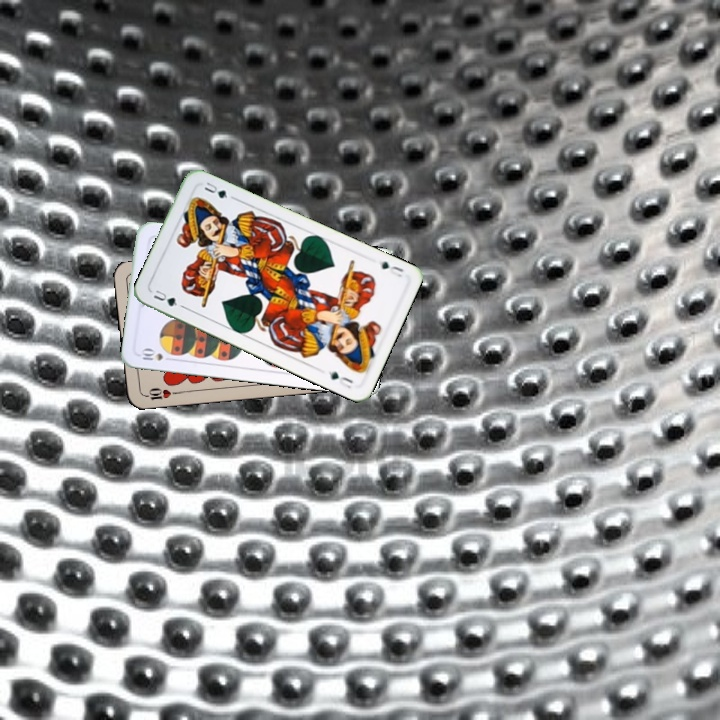GU: (149, 286, 186, 310), (374, 257, 406, 280)
H10: (139, 383, 180, 403)
S10: (135, 345, 176, 363)
